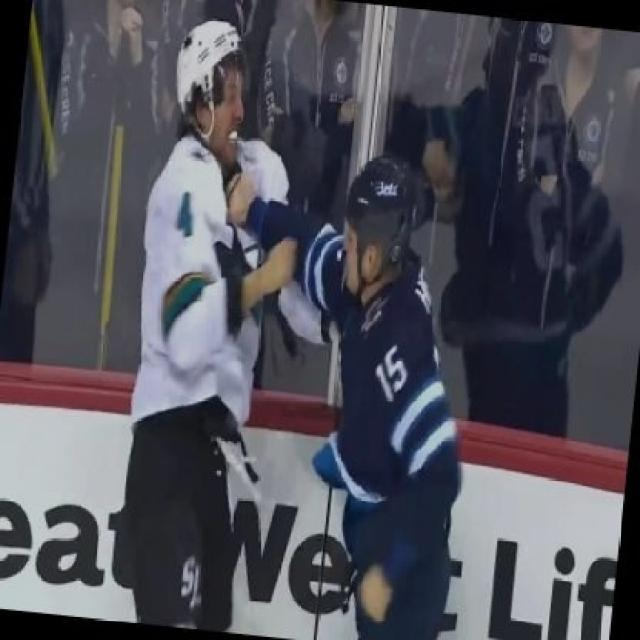fight: (76, 24, 522, 638)
